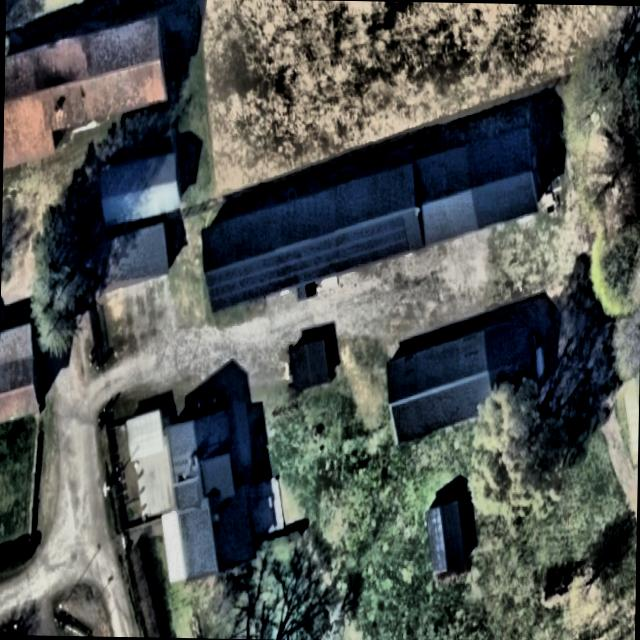roof_pv: (339, 211, 414, 269), (205, 254, 270, 312), (271, 236, 341, 289)
